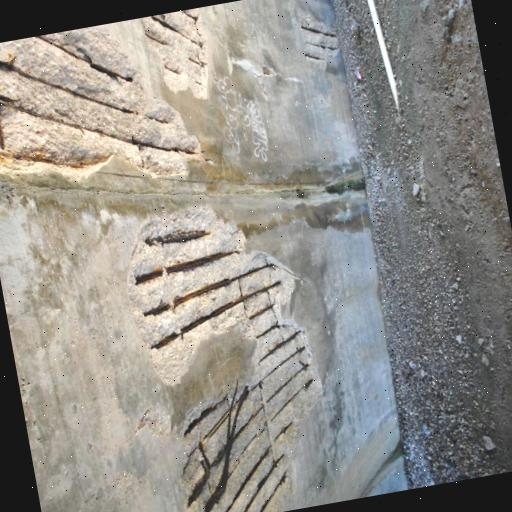spalling: (135, 200, 327, 512), (0, 33, 197, 187), (141, 9, 210, 104), (293, 12, 341, 72)
